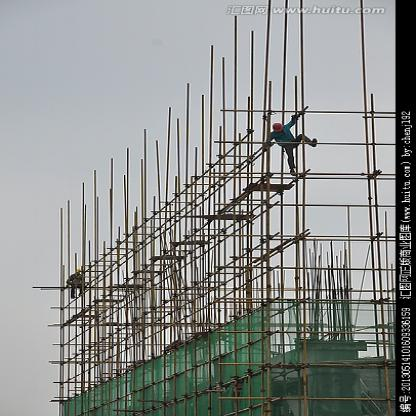helmet: (270, 123, 282, 129), (75, 268, 83, 272)
person: (258, 116, 329, 178), (63, 265, 98, 299)
